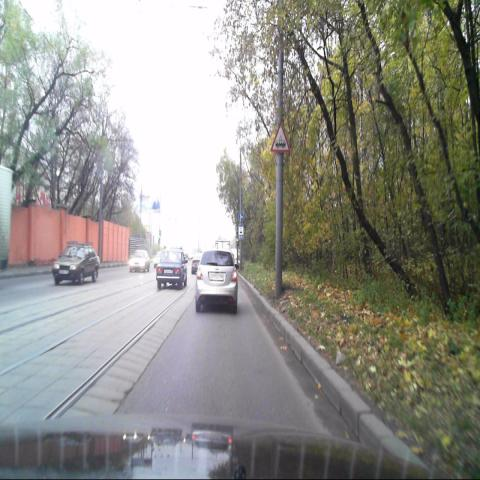1_5: (270, 123, 290, 153)
